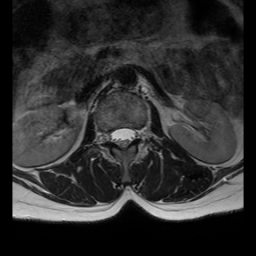CCS_normal: (118, 120, 126, 155)
LFS_normal: (135, 120, 143, 146)
LLS_normal: (126, 120, 135, 151)
RFS_normal: (102, 122, 110, 147)
RLS_normal: (110, 122, 118, 149)
